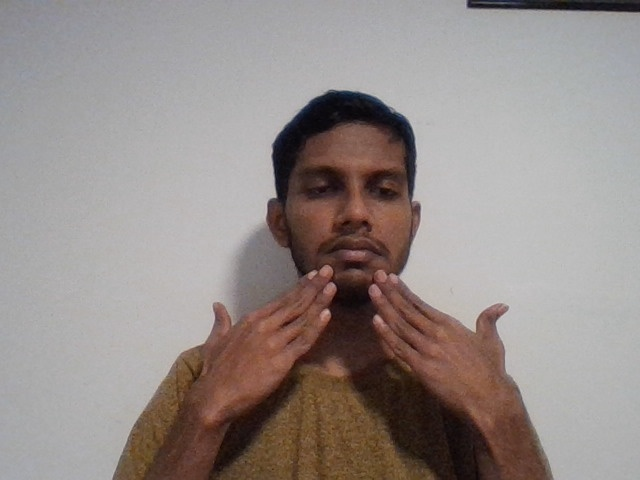thanks: (164, 263, 568, 445)
